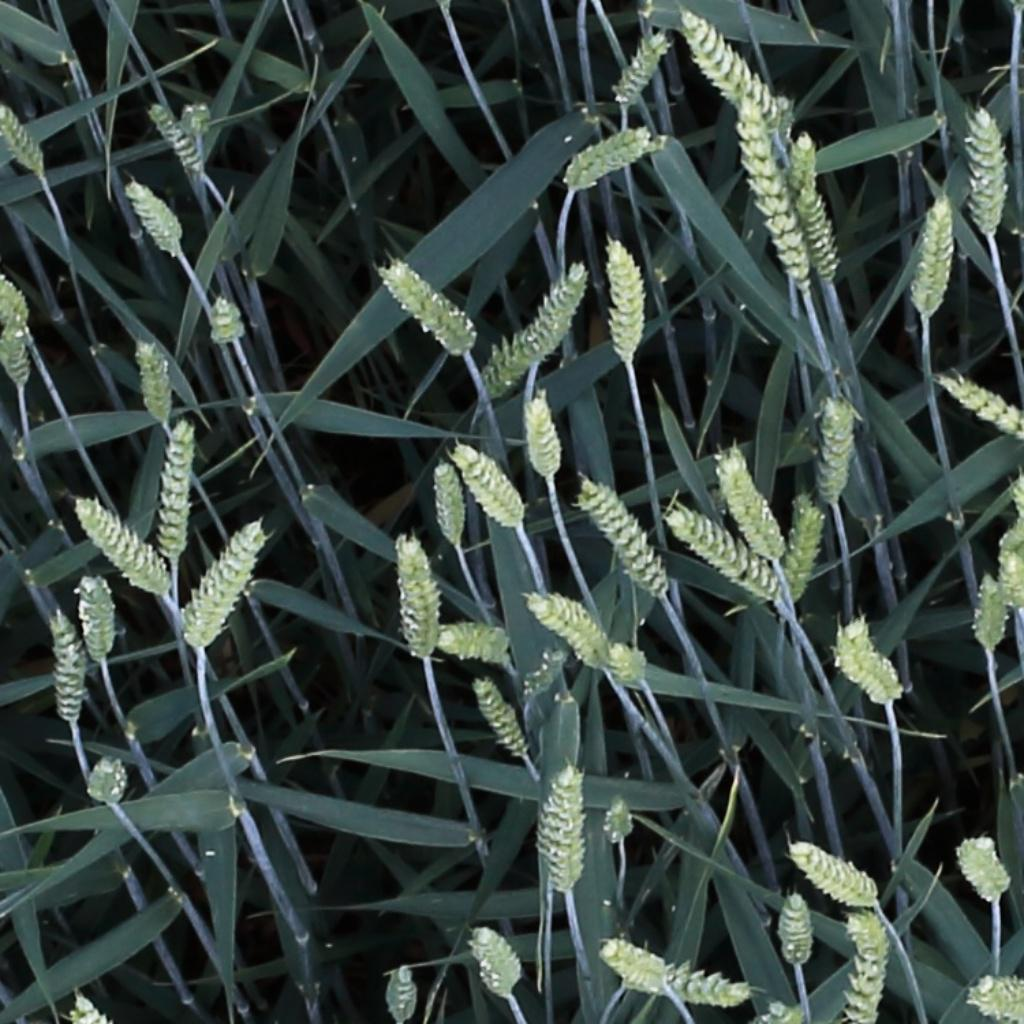0-0: (737, 92, 816, 292), (483, 253, 591, 398), (682, 8, 793, 128), (663, 500, 783, 602), (577, 475, 673, 599), (184, 516, 268, 651), (710, 436, 785, 565), (73, 495, 169, 593), (379, 259, 476, 353), (602, 944, 741, 1004), (387, 523, 444, 662), (533, 753, 588, 897), (782, 832, 879, 909), (520, 583, 606, 669), (833, 614, 912, 707), (567, 128, 664, 199), (451, 441, 528, 529), (471, 674, 536, 767), (67, 564, 124, 668), (144, 96, 210, 178), (613, 24, 675, 109), (608, 237, 650, 359), (158, 419, 193, 563), (942, 374, 1022, 435), (916, 193, 955, 315), (122, 176, 184, 252), (850, 905, 888, 1022), (469, 922, 522, 1002), (798, 184, 841, 281), (418, 612, 510, 657), (518, 388, 561, 483), (0, 95, 49, 178), (786, 501, 826, 602), (49, 610, 81, 727), (974, 105, 1002, 237), (958, 839, 1011, 906), (135, 335, 173, 427), (604, 944, 671, 989), (434, 456, 466, 550), (824, 393, 849, 507), (1, 309, 30, 391), (88, 755, 126, 816), (786, 887, 812, 972), (977, 572, 1003, 656), (609, 634, 651, 684), (0, 229, 19, 329), (795, 124, 820, 200), (389, 959, 416, 1022), (606, 793, 633, 853), (211, 289, 238, 348), (68, 985, 106, 1024), (1003, 526, 1024, 595), (974, 991, 1022, 1019)
